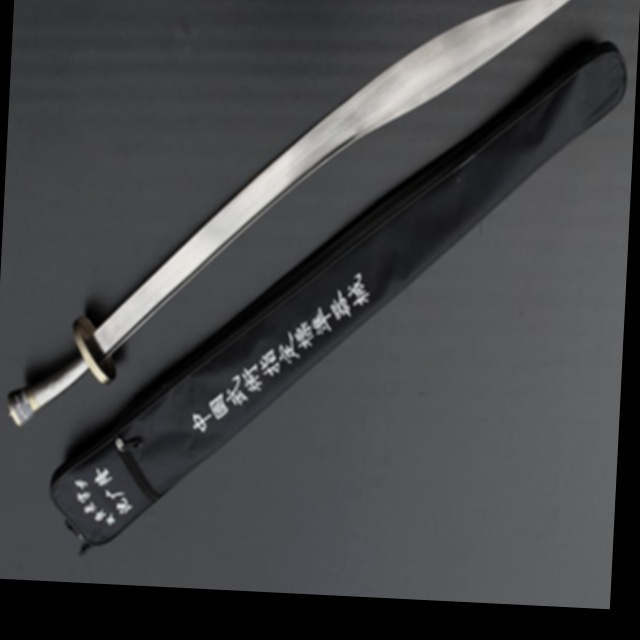Sharp-Object: (0, 0, 575, 457)
